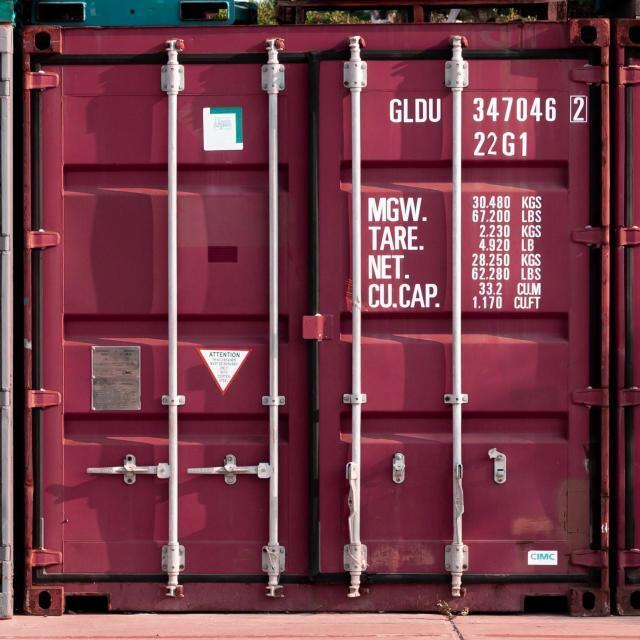ISO: (473, 132, 534, 160)
container_number: (392, 95, 584, 124), (470, 96, 586, 121)
